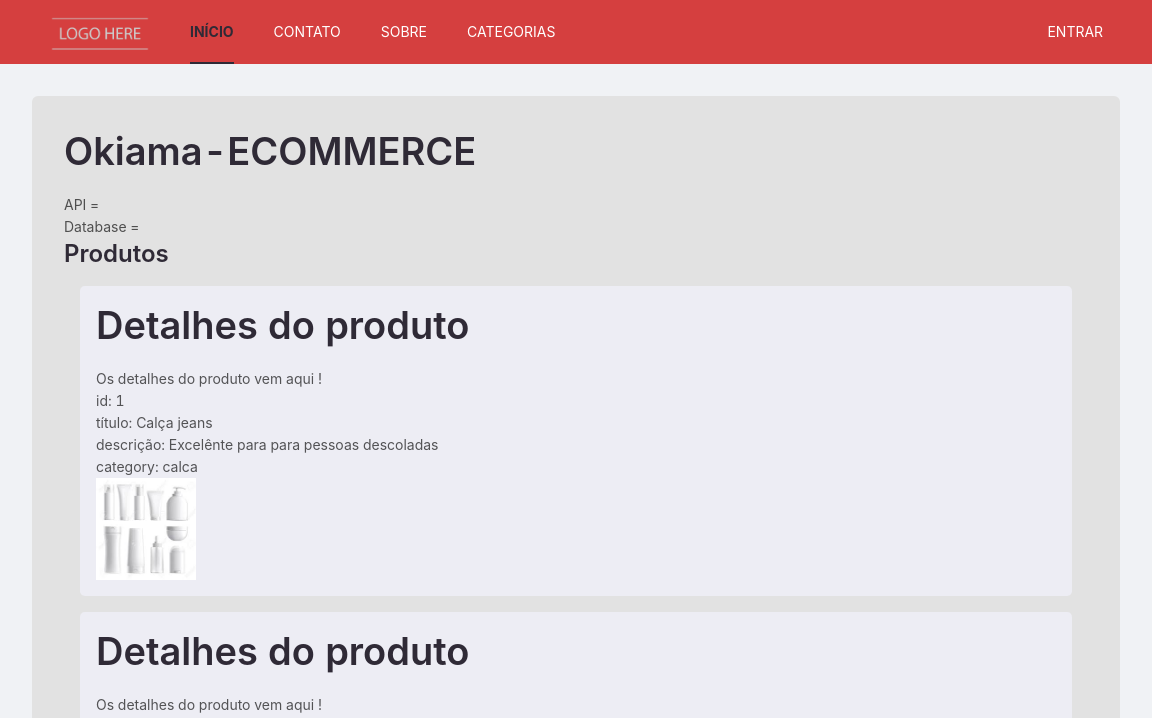
Acceptance test › Should go to registration page and print Registrar text inside h4
Click the menu item "Entrar".
click(1076, 32)  # box [1048, 23, 1104, 40]
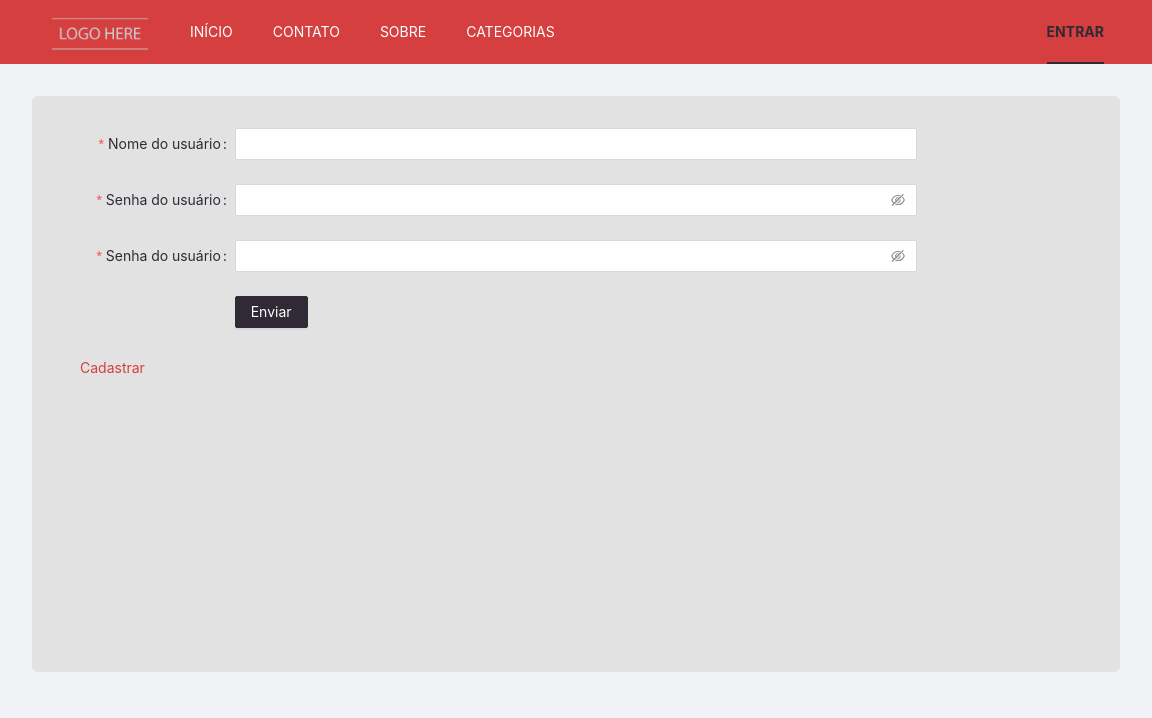
Check: the button "Cadastrar" is shown
Click the button "Cadastrar".
click(113, 368)  # box [64, 352, 161, 384]
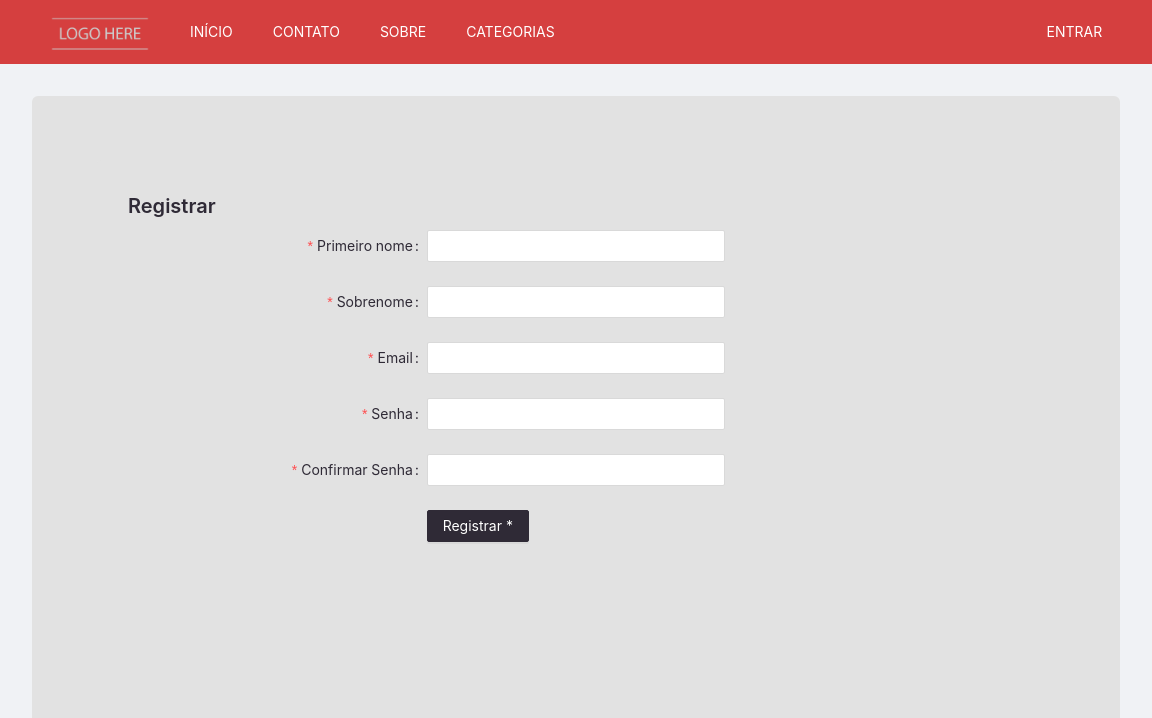
Check: the heading "Registrar" is shown, box [128, 194, 216, 218]
